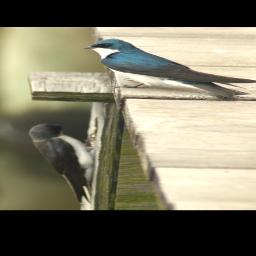Swallow: (84, 38, 256, 98)
